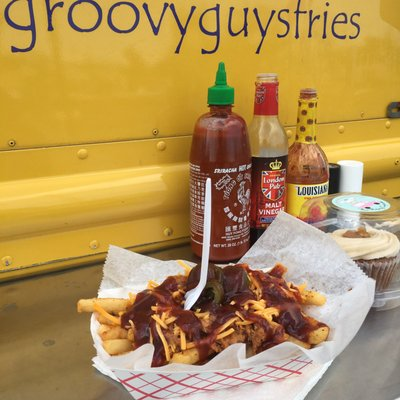burger: (187, 63, 253, 265), (246, 74, 289, 238), (285, 88, 330, 224)
curry: (19, 36, 400, 398)
